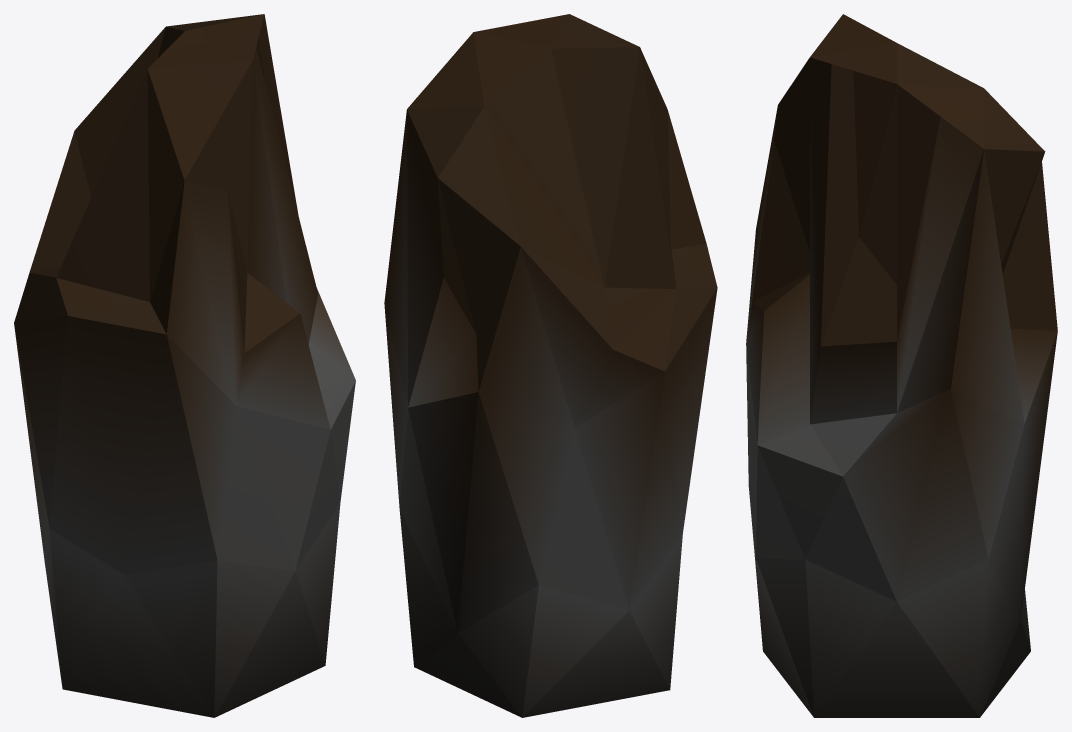
Rendered from StoneForOres.glb.
The picture shows the model from 3 angles, left to right: view 1: azimuth 30°, elevation 25°; view 2: azimuth 150°, elevation 25°; view 3: azimuth 270°, elevation 25°; orthographic projection. The views are drawn at different scales.
Visible parts, largest first — view 1: Stone; view 2: Stone; view 3: Stone.
Part boxes in pixels (box(x1,y1,x2,y2)): Stone: box(14, 14, 355, 717); Stone: box(384, 14, 717, 717); Stone: box(746, 14, 1057, 717).
Bounding box in the file's own units: 0.9581 × 2 × 0.9007.
1 material, 1 textured.
